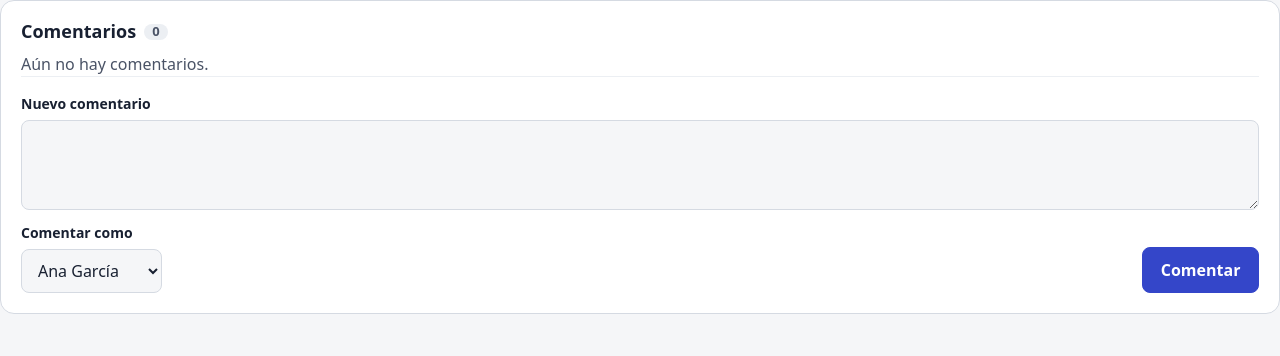
Test: Comentarios › muestra el error de la API en el campo o, si es otro, en un aviso
Later steps or results of the test are not shown.
Type "Hola" into the text box labelled "Nuevo comentario".
click(640, 165); type("Hola")  # box [21,120,1259,210]
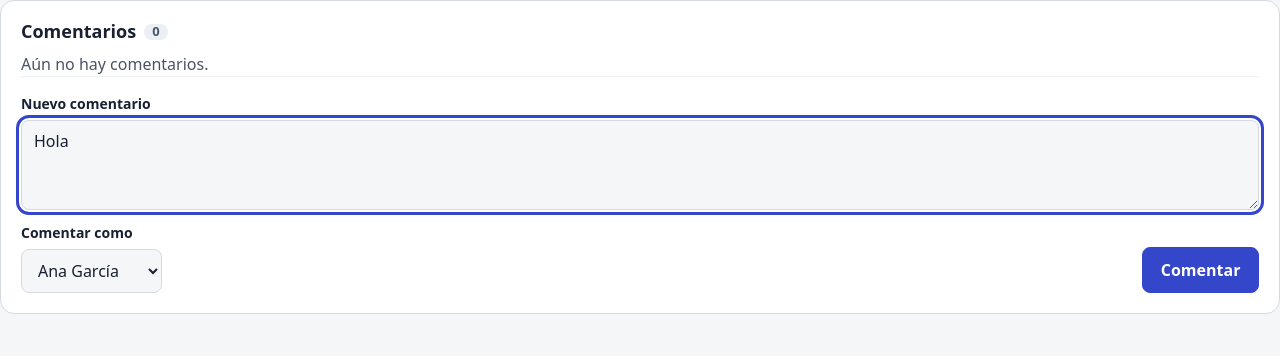
Click the button "Comentar".
click(1201, 270)  # box [1142,247,1259,293]
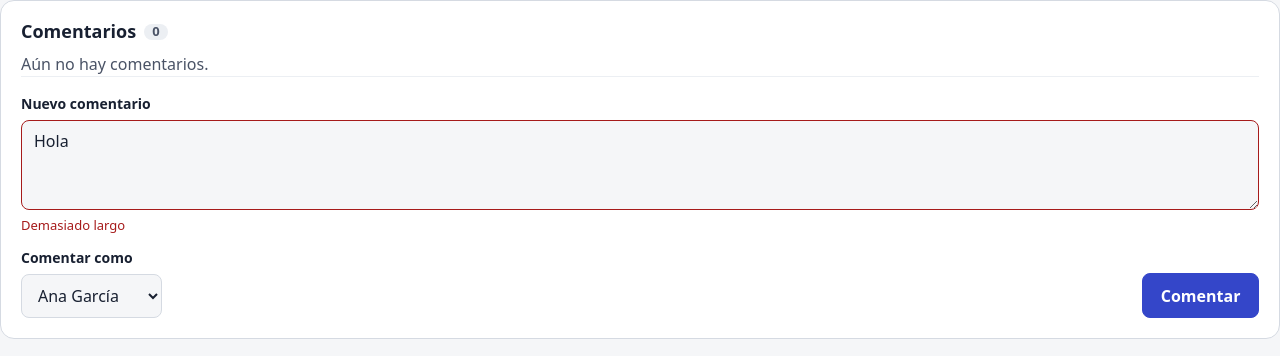
Expected: the text "Demasiado largo" is shown, [21,216,125,234]
